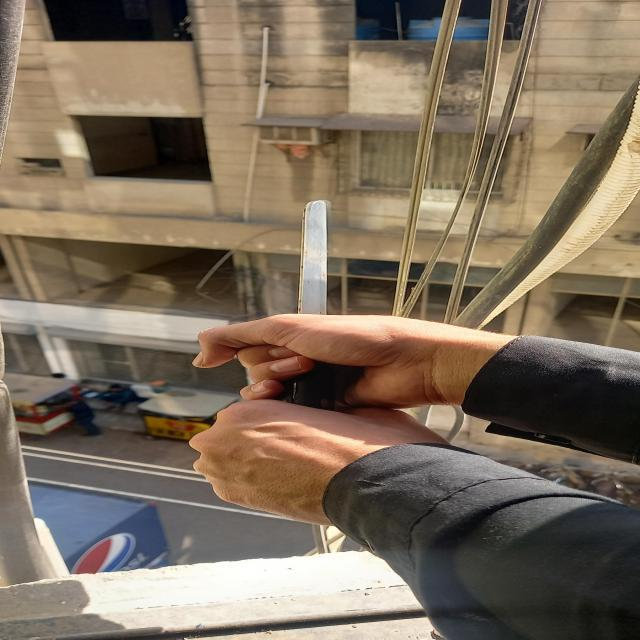faca: (296, 200, 330, 406)
